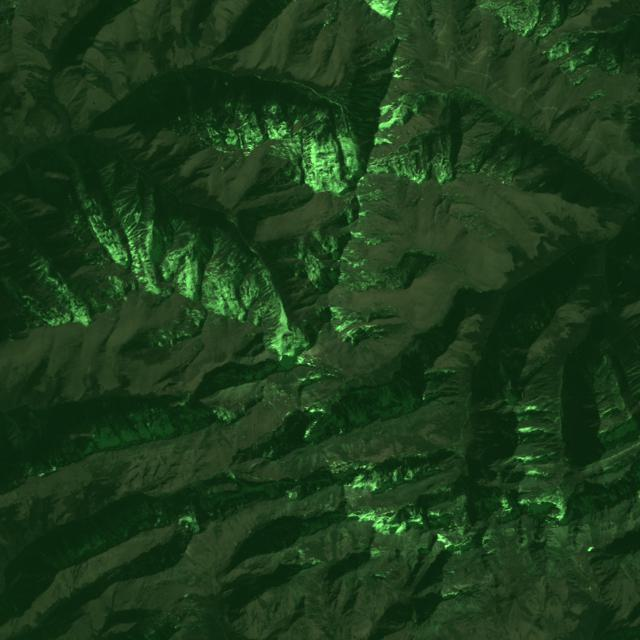landslides: (601, 418, 637, 443), (520, 422, 560, 436), (620, 555, 636, 588), (518, 394, 551, 408), (175, 563, 198, 577), (172, 566, 187, 584), (418, 351, 433, 364), (501, 116, 516, 126), (186, 550, 196, 563), (187, 545, 198, 556), (576, 284, 591, 292), (62, 536, 69, 553), (576, 351, 585, 364), (34, 546, 45, 556)
